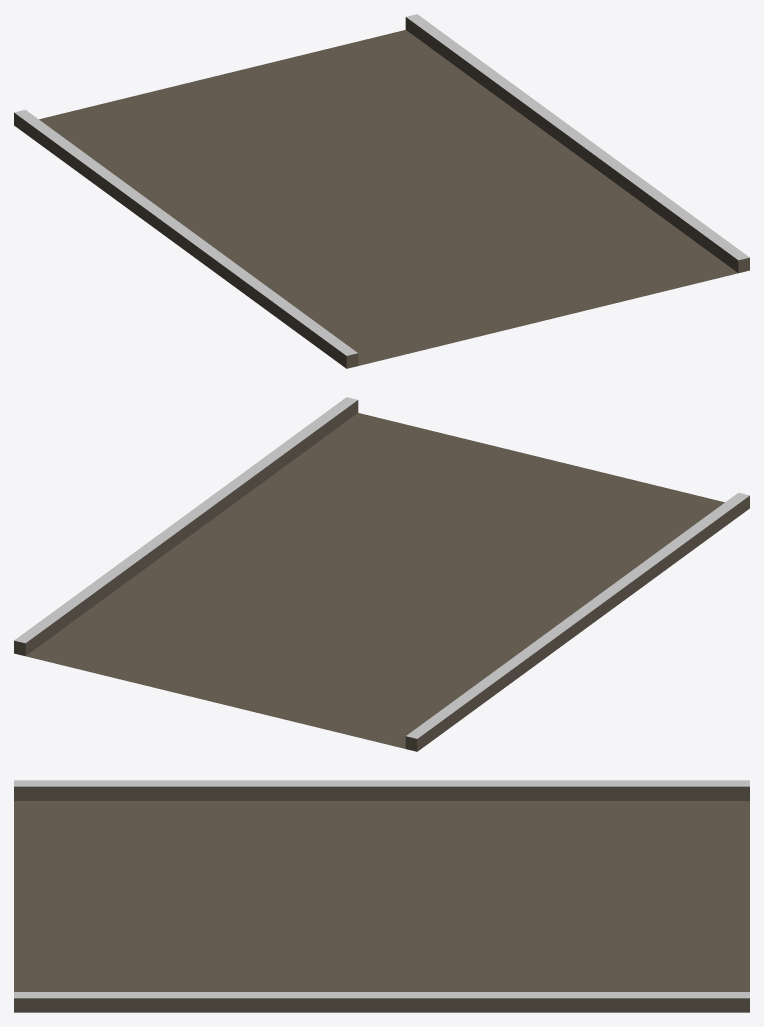
The model's file is straight.edge.fbx.
The picture shows the model from 3 angles, top to bottom: view 1: azimuth 30°, elevation 25°; view 2: azimuth 150°, elevation 25°; view 3: azimuth 270°, elevation 25°; orthographic projection. The views are drawn at different scales.
Visible parts, largest first — view 1: straight.edge; view 2: straight.edge; view 3: straight.edge.
Boxes of the visible parts, x1,y1,x2,y2 form: straight.edge: (14, 14, 749, 368); straight.edge: (14, 397, 749, 751); straight.edge: (14, 780, 749, 1012).
Size of the model in its own units: 2450 by 75 by 3500.
